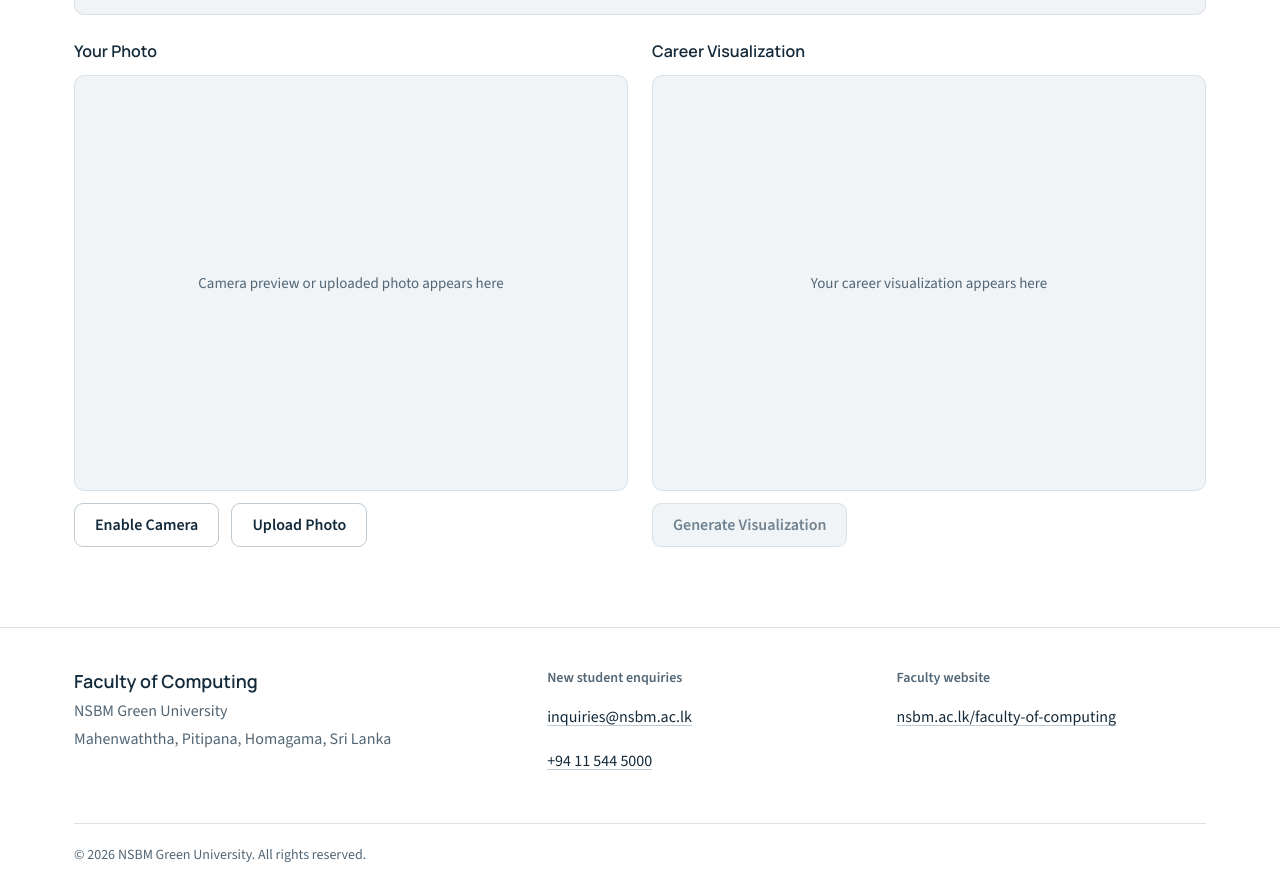
Test: career visualization › explains when the browser has no camera API
The width and height of the screenshot is (1280, 889).
(page scrolled)
Click the button "Enable Camera": (147, 525) [74,503,219,547]
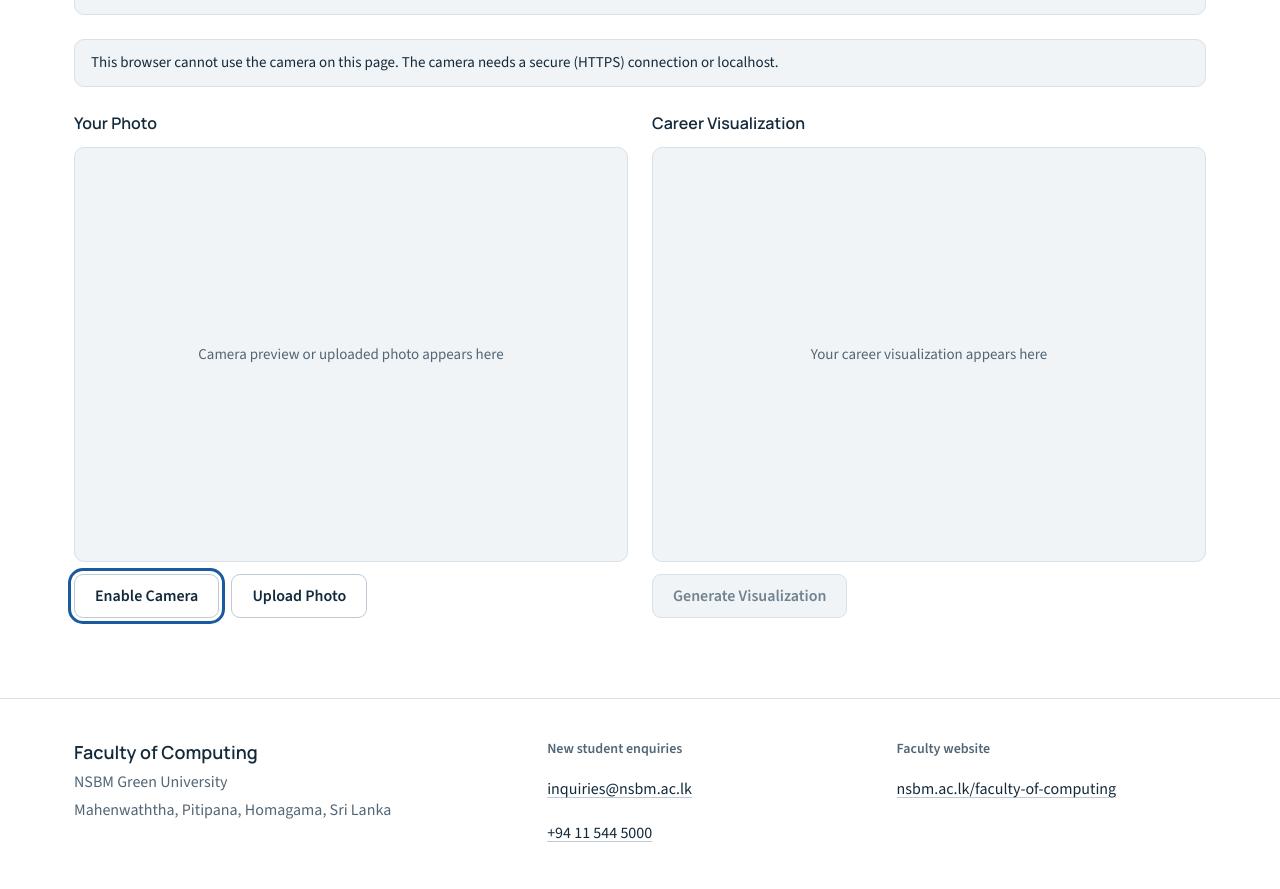
expect the text "needs a secure (HTTPS) connection" is shown: met, box [91,52,778,72]
